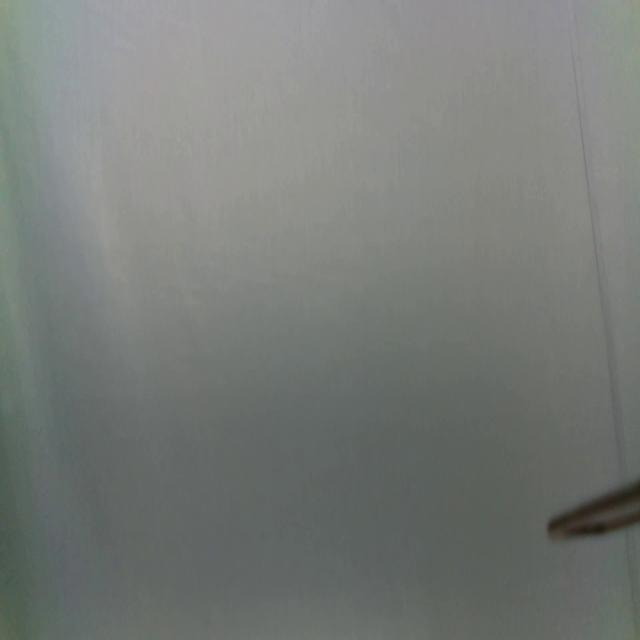crease: (568, 4, 626, 485), (625, 529, 637, 631)
